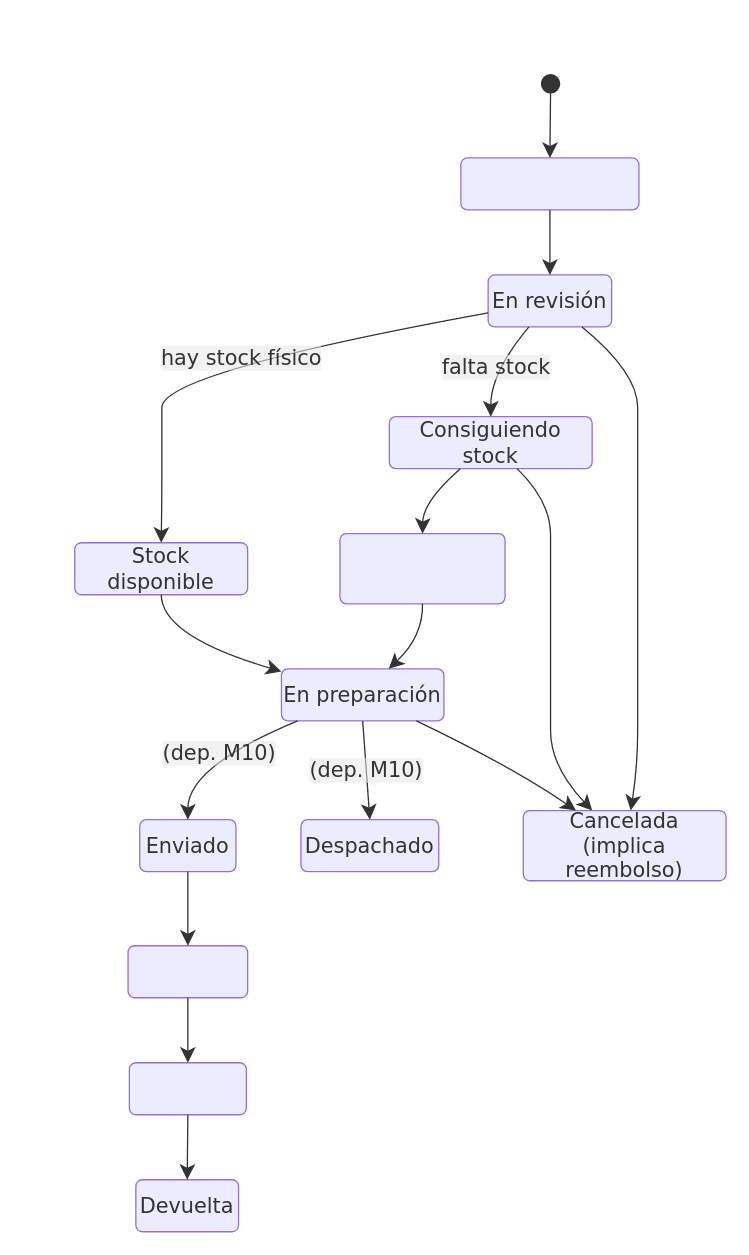
Image size: 749x1255. Some labels were removed from this diagram. Each missing label, with the centre of its shape:
Aviso al cliente: 'puede tardar': the point at 422,568
En camino: the point at 187,971
Entregado: the point at 187,1088
Pago confirmado: the point at 549,183
